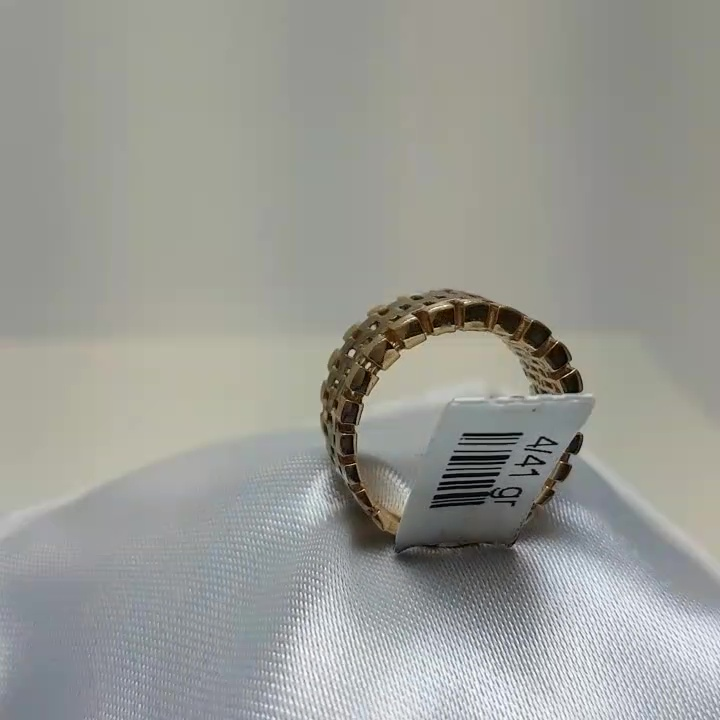Ring 1: (264, 262, 612, 574)
